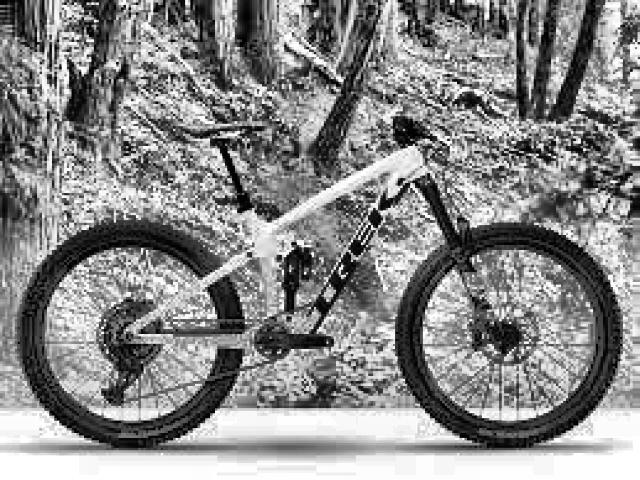cassette: (97, 296, 166, 372)
cranks_set: (249, 316, 336, 361)
rear_derailleur: (100, 340, 145, 408)
saddle: (178, 119, 269, 146)
wheel: (15, 214, 248, 449), (397, 221, 624, 449)
